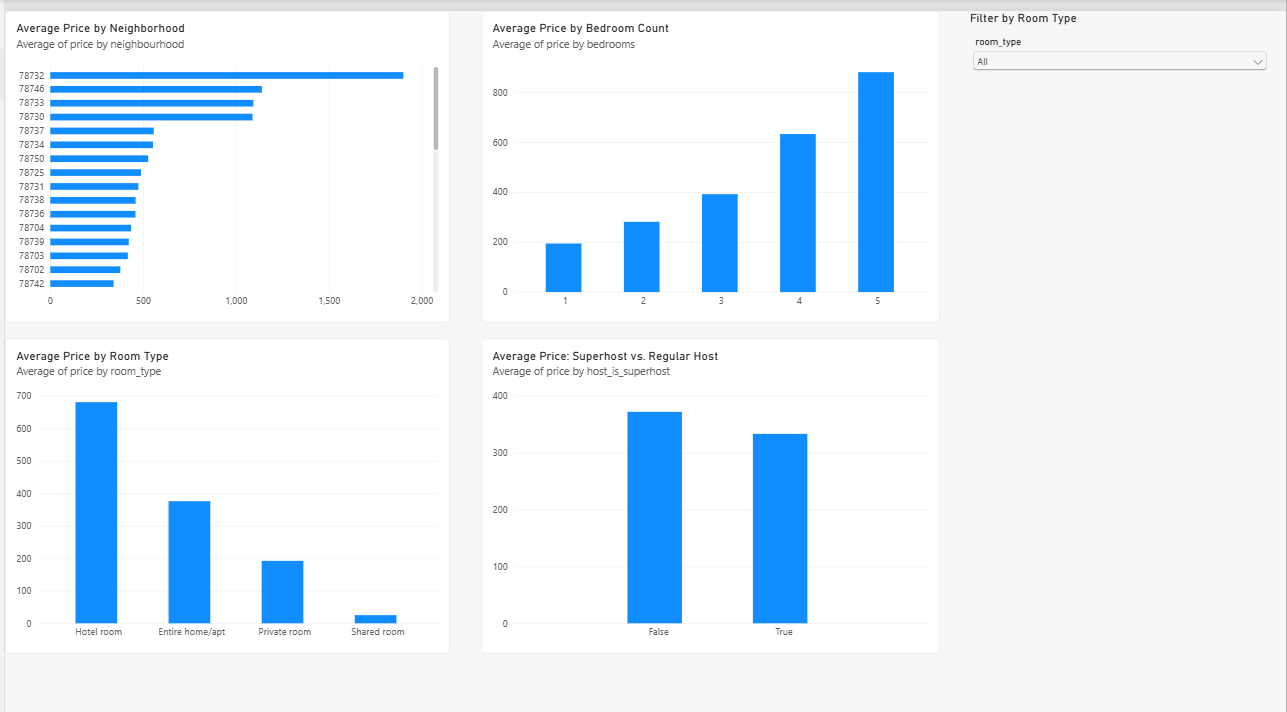

What the dashboard file says about the page in this screenshot:
{"tool":"powerbi","page":{"name":"Pricing Analysis","canvas":[1920,1080],"ordinal":1},"visuals":[{"type":"clusteredBarChart","title":"Average Price by Neighborhood","fields":{"Category":["public listings_clean.neighbourhood"],"Y":["Avg(public listings_clean.price)"]},"box":[32.6,45.6,666.3,466.1],"z":0},{"type":"clusteredColumnChart","title":"Average Price by Room Type","fields":{"Category":["public listings_clean.room_type"],"Y":["Avg(public listings_clean.price)"]},"box":[32.6,562.4,666.3,471.7],"z":1000},{"type":"clusteredColumnChart","title":"Average Price by Bedroom Count","fields":{"Category":["public listings_clean.bedrooms"],"Y":["Avg(public listings_clean.price)"]},"box":[735.3,45.6,686.9,466.1],"z":2000},{"type":"clusteredColumnChart","title":"Average Price: Superhost vs. Regular Host","fields":{"Category":["public listings_clean.host_is_superhost"],"Y":["Avg(public listings_clean.price)"]},"box":[735.3,562.4,686.9,471.7],"z":3000},{"type":"slicer","title":"Filter by Room Type","fields":{"Values":["public listings_clean.room_type"]},"box":[1458.6,45.6,436.1,296.8],"z":4000}]}

Visuals, with their boxes in screenshot pixels (x1, y1, x2, y2), scaled from the page's 1920x1080 canvas onto the 1287x712 screenshot:
"Average Price by Neighborhood" clusteredBarChart: [left=22, top=30, right=468, bottom=337]
"Average Price by Room Type" clusteredColumnChart: [left=22, top=371, right=468, bottom=682]
"Average Price by Bedroom Count" clusteredColumnChart: [left=493, top=30, right=953, bottom=337]
"Average Price: Superhost vs. Regular Host" clusteredColumnChart: [left=493, top=371, right=953, bottom=682]
"Filter by Room Type" slicer: [left=978, top=30, right=1270, bottom=226]
